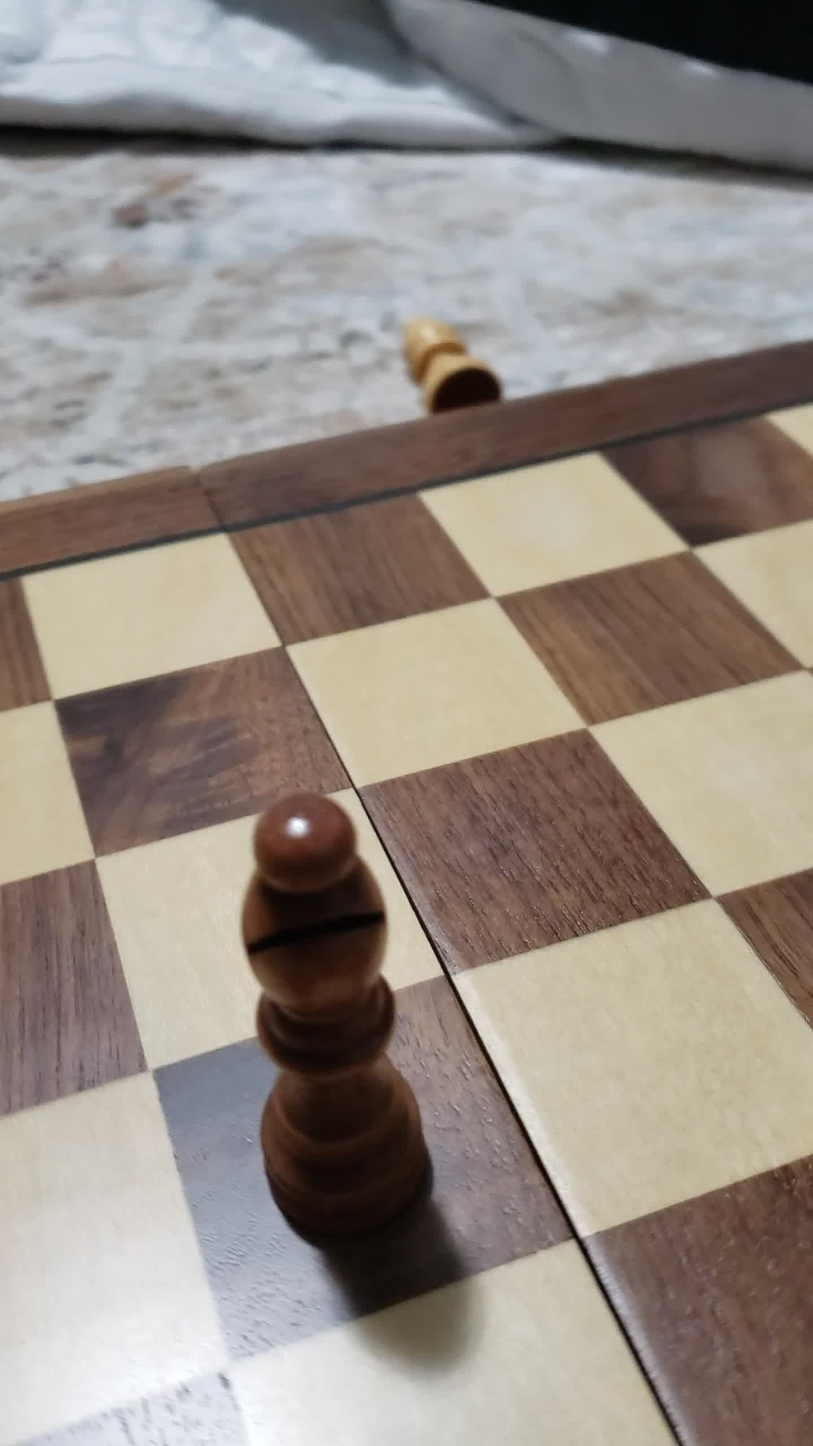black-bishop: (172, 780, 464, 1283)
